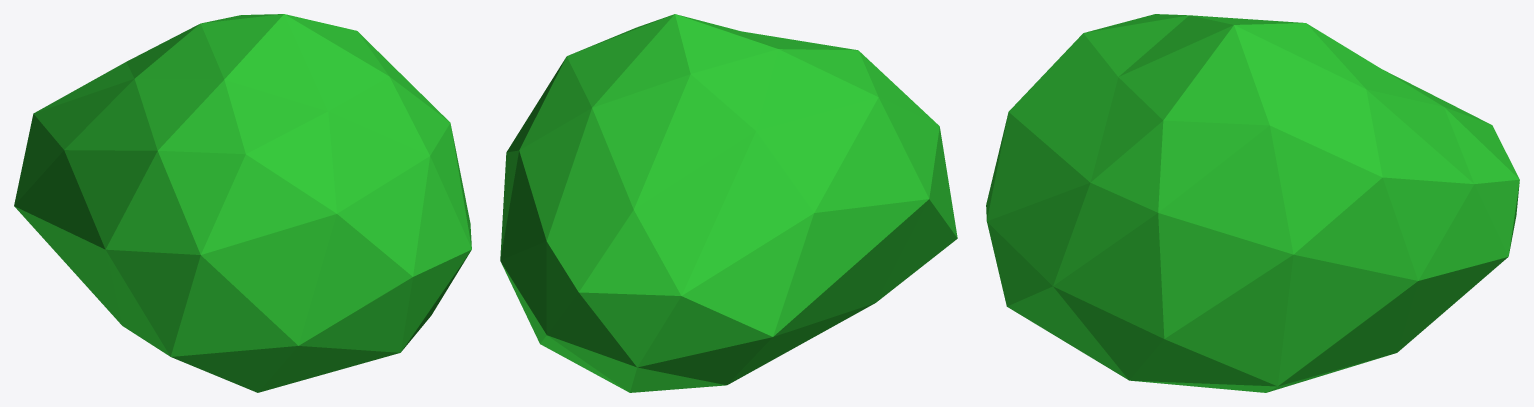
File: bush.glb
The picture shows the model from 3 angles, left to right: view 1: azimuth 30°, elevation 25°; view 2: azimuth 150°, elevation 25°; view 3: azimuth 270°, elevation 25°; orthographic projection. The views are drawn at different scales.
Parts seen in each view (by area): view 1: tree1_Icosphere.020; view 2: tree1_Icosphere.020; view 3: tree1_Icosphere.020.
Boxes of the visible parts, left/top/right/bottom form: tree1_Icosphere.020: left=14, top=14, right=471, bottom=392; tree1_Icosphere.020: left=500, top=14, right=957, bottom=392; tree1_Icosphere.020: left=986, top=14, right=1519, bottom=392.
Bounding box in the file's own units: 3.52 × 2.97 × 4.18.
